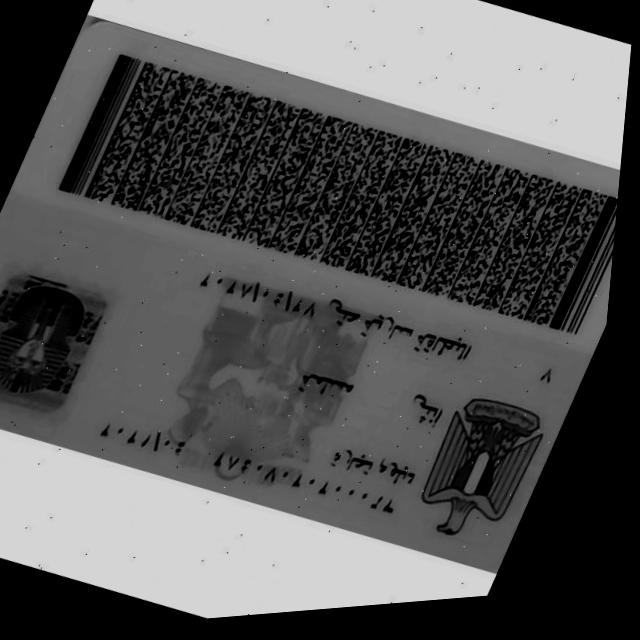back: (0, 25, 620, 570)
